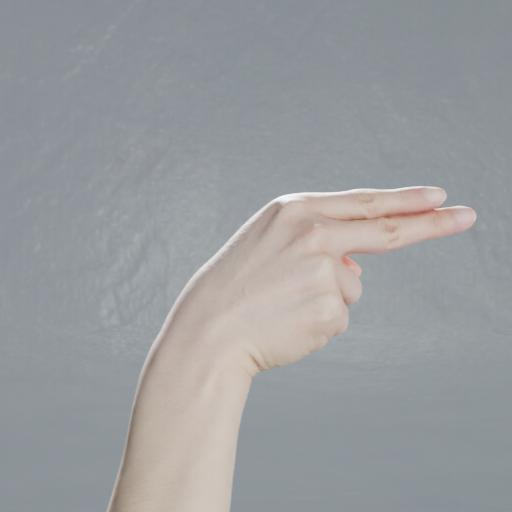H: (176, 157, 488, 388)
